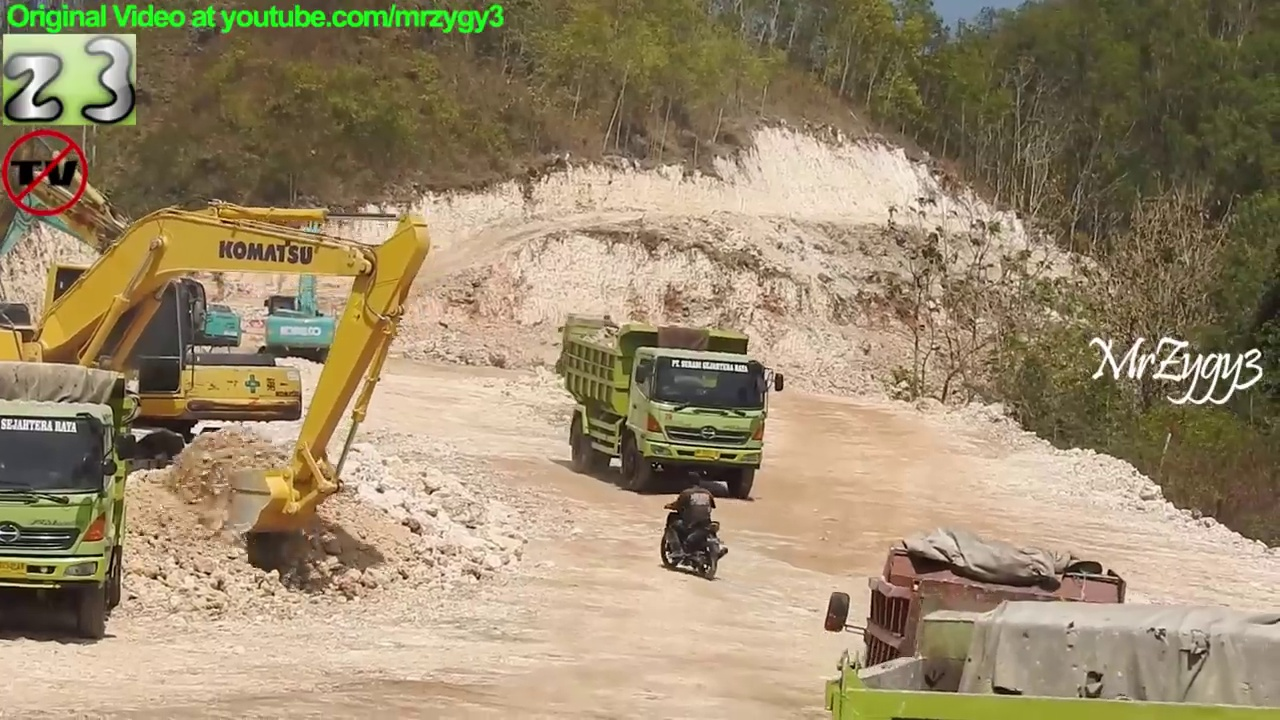excavator: (1, 193, 433, 537), (1, 124, 307, 467), (2, 171, 258, 413), (254, 188, 344, 369)
truck: (824, 528, 1131, 720), (822, 596, 1280, 720), (555, 319, 789, 503), (2, 359, 141, 645)
